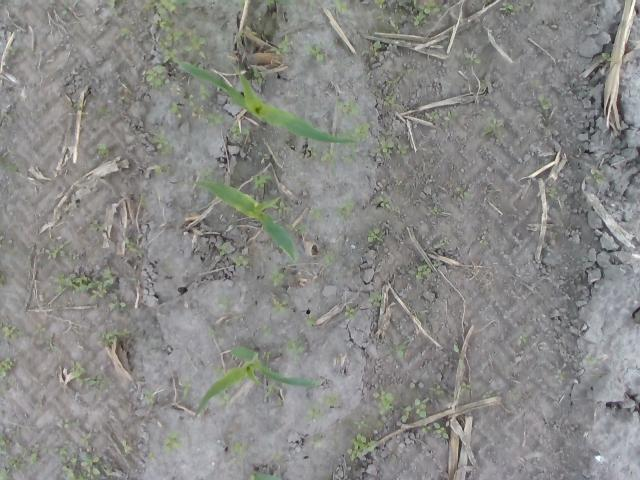Maize: (178, 57, 354, 143), (182, 178, 300, 262), (194, 345, 324, 415), (248, 468, 281, 480)
Weeds: (74, 269, 114, 300), (61, 455, 110, 480), (186, 93, 223, 126), (150, 15, 184, 46), (337, 121, 370, 150), (44, 236, 78, 264), (347, 434, 378, 462), (411, 0, 441, 26), (372, 384, 395, 416), (402, 398, 430, 423), (185, 29, 208, 58), (374, 130, 396, 160), (143, 0, 190, 14), (96, 328, 132, 346), (480, 117, 504, 141), (336, 99, 362, 119), (152, 132, 174, 155), (146, 66, 169, 88), (124, 232, 144, 257), (163, 432, 184, 454), (0, 150, 19, 174), (336, 198, 356, 220), (270, 34, 290, 56), (304, 400, 323, 423), (286, 336, 304, 360), (54, 272, 74, 293), (70, 360, 86, 386), (320, 146, 338, 168), (0, 357, 16, 381), (408, 264, 432, 280), (0, 322, 21, 340), (250, 171, 272, 188), (434, 420, 452, 440), (378, 196, 400, 212), (116, 84, 134, 103), (230, 122, 250, 139), (585, 167, 605, 184), (252, 66, 269, 85), (270, 198, 290, 214), (388, 341, 408, 357), (162, 47, 180, 64), (89, 374, 108, 390), (536, 94, 552, 113), (6, 454, 26, 469), (394, 68, 414, 83), (268, 268, 284, 286), (306, 44, 324, 60), (378, 13, 398, 27), (462, 52, 482, 66), (272, 298, 289, 314), (90, 142, 108, 157), (453, 344, 464, 368), (108, 295, 125, 310), (368, 292, 384, 307), (238, 25, 258, 37), (216, 393, 233, 407), (120, 439, 132, 458), (232, 441, 247, 456), (383, 92, 398, 107), (367, 229, 383, 243), (79, 430, 92, 447), (217, 294, 230, 311), (500, 1, 518, 13), (325, 392, 340, 406), (154, 164, 173, 175), (332, 0, 348, 13), (582, 353, 598, 366), (170, 101, 182, 118), (182, 374, 192, 394), (29, 444, 40, 462), (230, 255, 248, 266), (212, 365, 224, 381), (370, 40, 382, 56), (264, 385, 278, 398), (34, 323, 46, 338), (201, 168, 216, 180), (285, 223, 305, 232), (344, 304, 355, 320), (456, 186, 472, 197), (54, 444, 68, 456), (144, 389, 156, 403), (90, 220, 104, 232), (198, 85, 210, 99), (304, 146, 318, 158), (341, 152, 355, 164), (308, 206, 322, 218), (353, 420, 369, 430), (430, 384, 446, 394), (59, 417, 72, 429), (304, 312, 316, 325), (0, 434, 7, 456), (424, 110, 439, 120), (443, 110, 458, 120), (518, 333, 530, 345), (70, 98, 82, 110), (59, 1, 70, 14), (434, 238, 447, 249), (206, 325, 216, 339), (311, 437, 326, 446), (420, 146, 439, 153), (460, 381, 471, 393), (478, 235, 490, 246), (0, 467, 10, 480), (396, 144, 409, 154), (324, 253, 335, 264), (600, 53, 612, 63), (548, 186, 558, 198), (373, 0, 386, 9), (428, 206, 442, 214), (262, 325, 272, 336), (555, 370, 566, 380), (158, 38, 168, 48), (218, 244, 226, 256), (98, 108, 110, 116), (508, 389, 517, 399), (272, 450, 281, 460), (261, 350, 272, 358), (105, 0, 116, 8), (478, 80, 488, 88), (49, 342, 57, 352), (140, 196, 148, 206), (422, 424, 432, 432), (482, 390, 492, 398), (163, 262, 174, 269), (147, 452, 156, 460), (0, 274, 5, 287), (4, 112, 12, 120), (121, 27, 128, 36), (258, 152, 268, 158), (9, 46, 16, 54), (386, 80, 394, 87), (390, 453, 398, 460), (257, 10, 264, 18), (0, 386, 8, 392), (310, 0, 316, 6), (396, 180, 402, 186), (128, 277, 136, 281), (0, 234, 3, 244), (434, 263, 439, 268), (372, 88, 376, 94)
